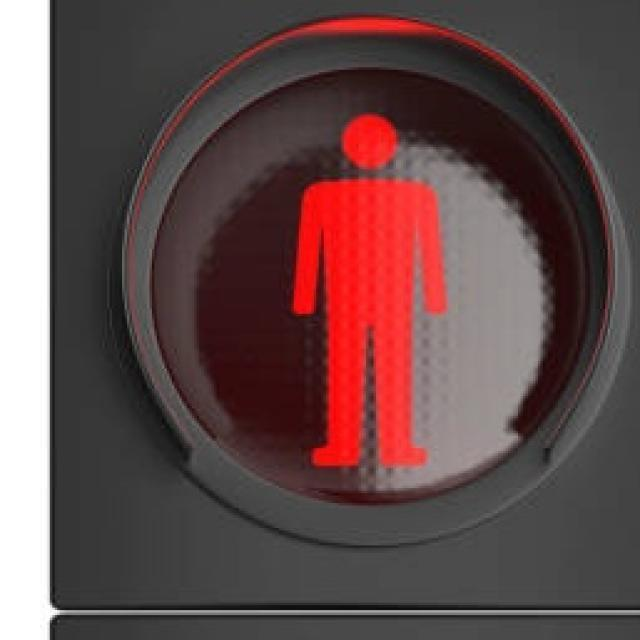red-crossing: (274, 94, 471, 488)
